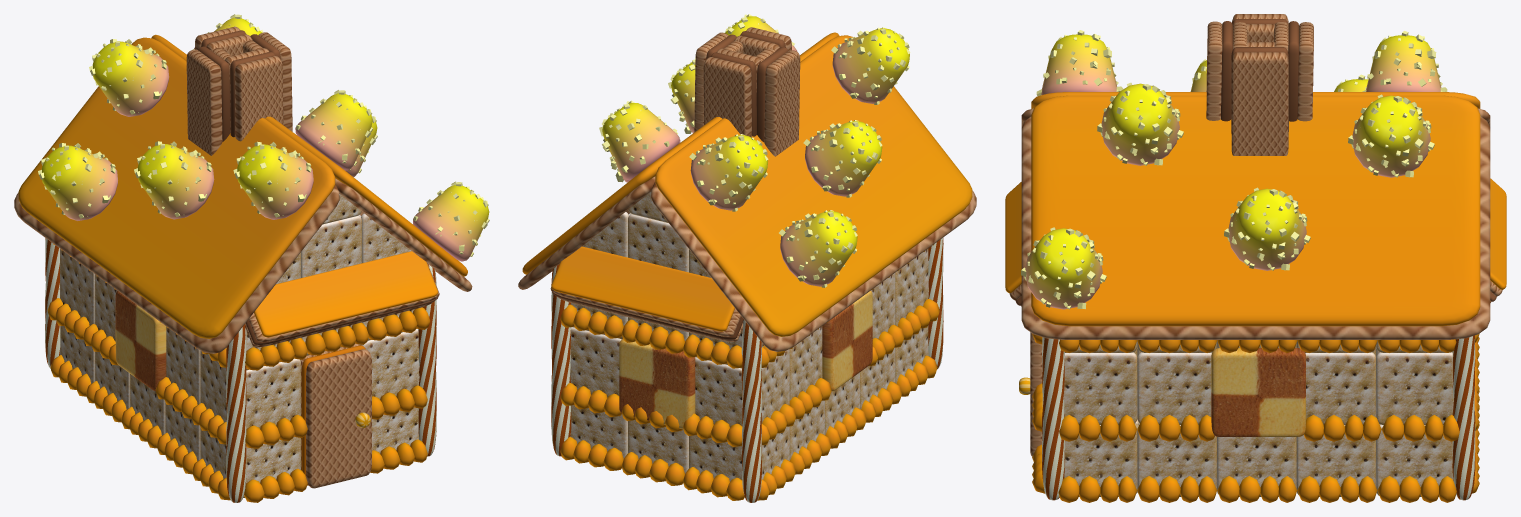
The model's file is cw_house_4.fbx.
3 views of the same model, side by side, from view 1: azimuth 30°, elevation 25°; view 2: azimuth 150°, elevation 25°; view 3: azimuth 270°, elevation 25° (orthographic). The views are drawn at different scales.
Visible parts, largest first — view 1: cw_house_4; view 2: cw_house_4; view 3: cw_house_4.
Boxes of the visible parts, bbox=[...] form: cw_house_4: bbox=[14, 14, 489, 502]; cw_house_4: bbox=[518, 14, 976, 502]; cw_house_4: bbox=[1005, 14, 1506, 502].
Size of the model in its own units: 556 by 624 by 680.
